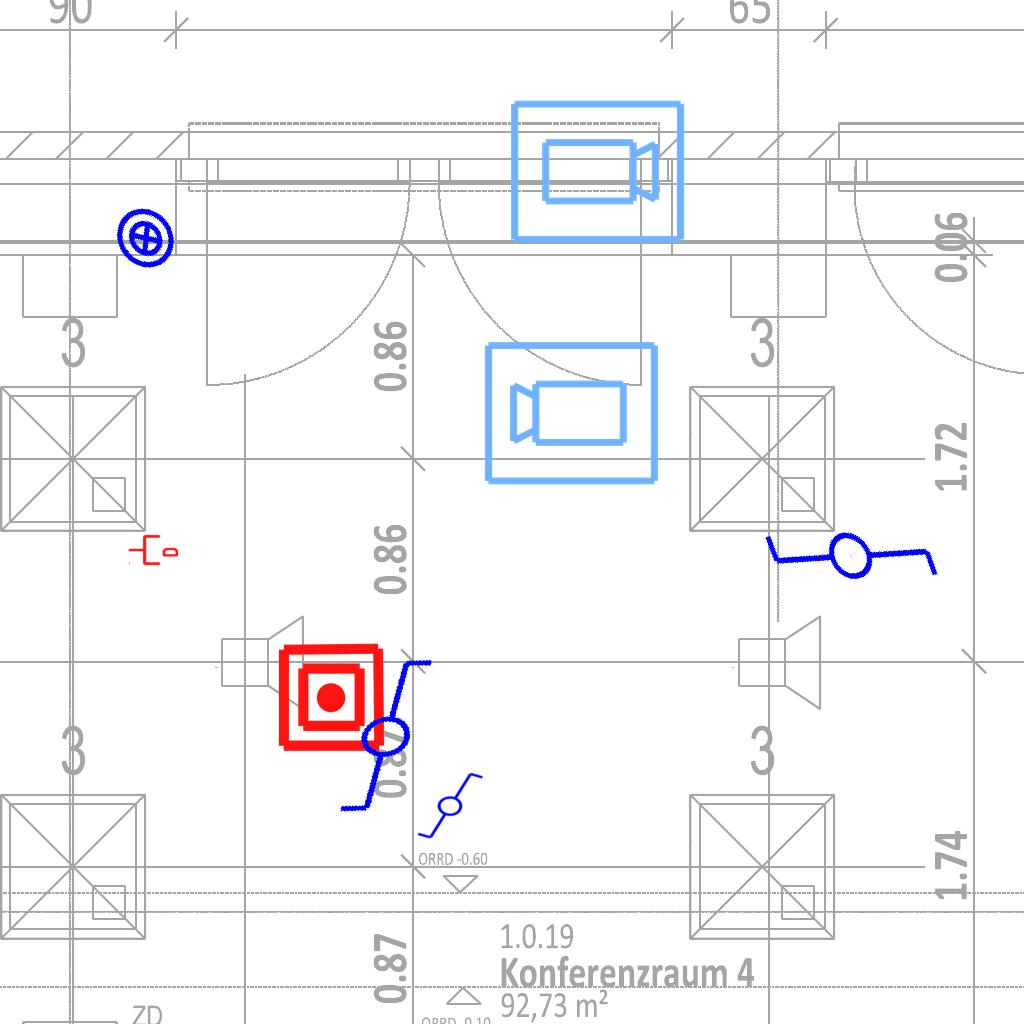Datenanschluss_einfach: (128, 533, 178, 567)
KFO_Kamera_mit_Festobjektiv: (481, 335, 663, 489), (506, 96, 688, 250)
NAM-Nichtautomatischer_Melder: (275, 641, 388, 754)
Taster_beleuchtet: (99, 191, 193, 285)
Wechselschalter: (743, 442, 952, 654), (281, 645, 474, 829), (407, 769, 485, 841)
